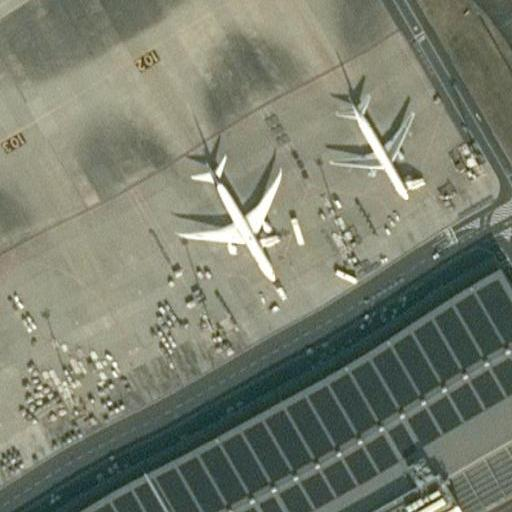Aircraft: (177, 153, 290, 273), (328, 82, 421, 200)
